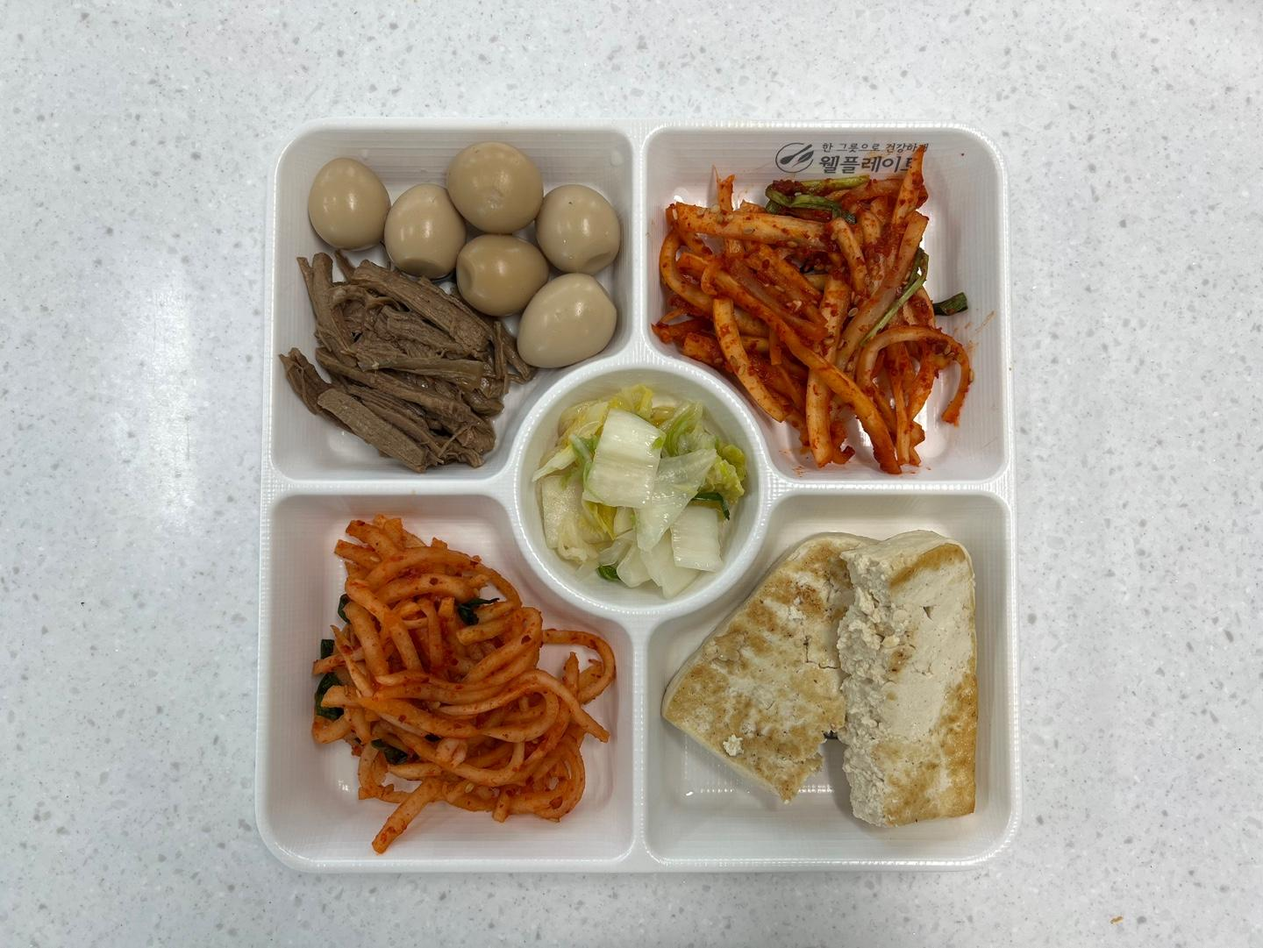food: (297, 143, 621, 473), (294, 517, 607, 852), (289, 148, 618, 459), (311, 517, 613, 854), (672, 520, 988, 839), (653, 155, 955, 474), (660, 531, 980, 828), (668, 156, 972, 459), (534, 364, 747, 583), (535, 387, 744, 594)
